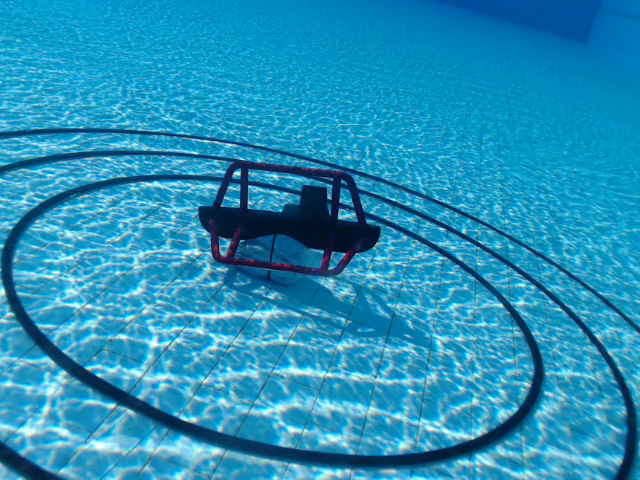submarine: (197, 157, 388, 278)
